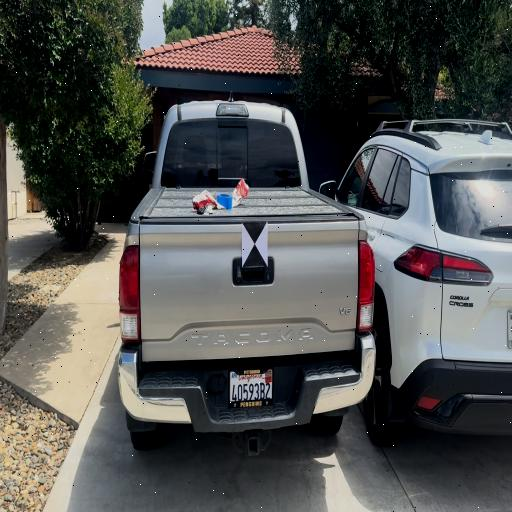target: (242, 223, 268, 267)
